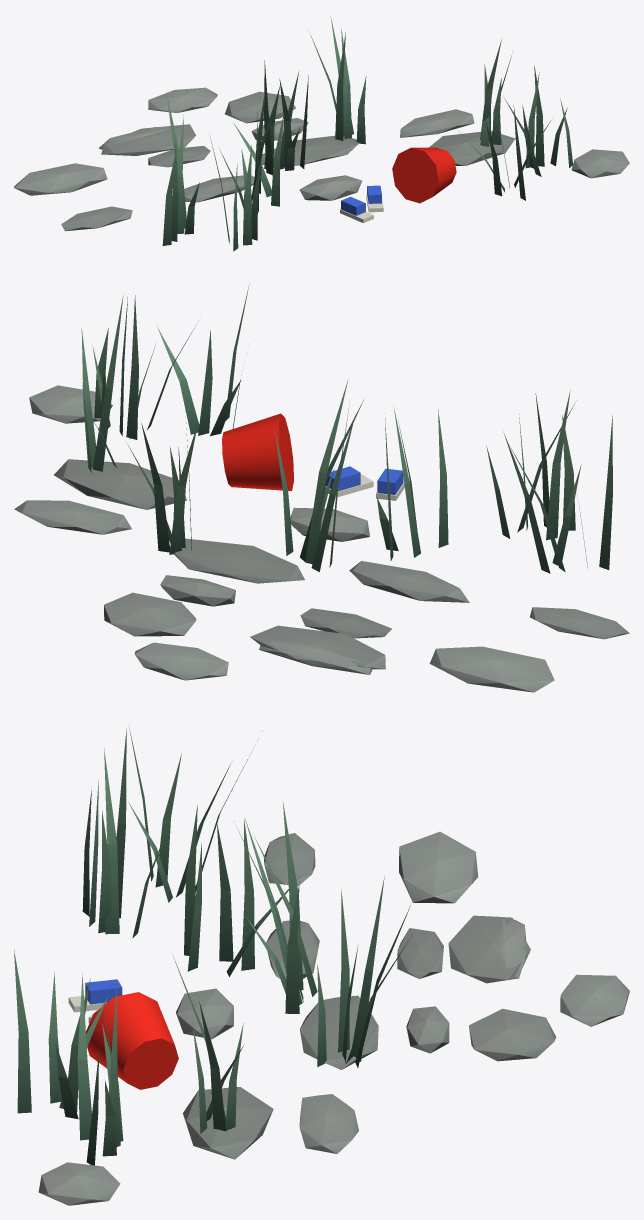
File: fundo_lago_pecas.glb
3 renders of one model, top to bottom at view 1: azimuth 30°, elevation 25°; view 2: azimuth 150°, elevation 25°; view 3: azimuth 270°, elevation 25°, orthographic. The views are drawn at different scales.
Parts seen in each view (by area): view 1: AreiaEAlgas_5, _MeshInstance3D_6166_0, _MeshInstance3D_6163_4; view 2: AreiaEAlgas_5, _MeshInstance3D_6166_0; view 3: AreiaEAlgas_5, _MeshInstance3D_6166_0, _MeshInstance3D_6163_4.
Part boxes in pixels (bbox=[...]): AreiaEAlgas_5: bbox=[14, 16, 629, 251]; _MeshInstance3D_6166_0: bbox=[392, 147, 456, 203]; _MeshInstance3D_6163_4: bbox=[341, 196, 365, 215]; AreiaEAlgas_5: bbox=[14, 283, 629, 692]; _MeshInstance3D_6166_0: bbox=[222, 413, 293, 491]; AreiaEAlgas_5: bbox=[14, 726, 629, 1205]; _MeshInstance3D_6166_0: bbox=[86, 992, 178, 1089]; _MeshInstance3D_6163_4: bbox=[85, 979, 122, 1004].
Bounding box in the file's own units: 5.12 × 1.25 × 3.61.
